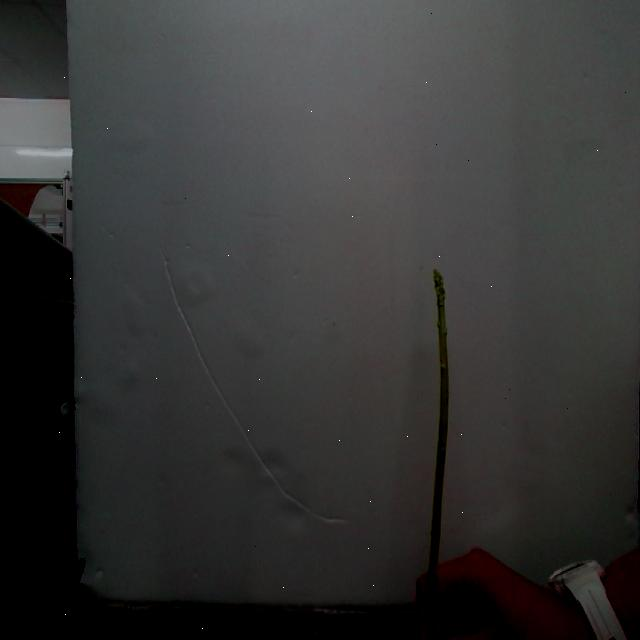aspargus: (421, 272, 452, 640)
